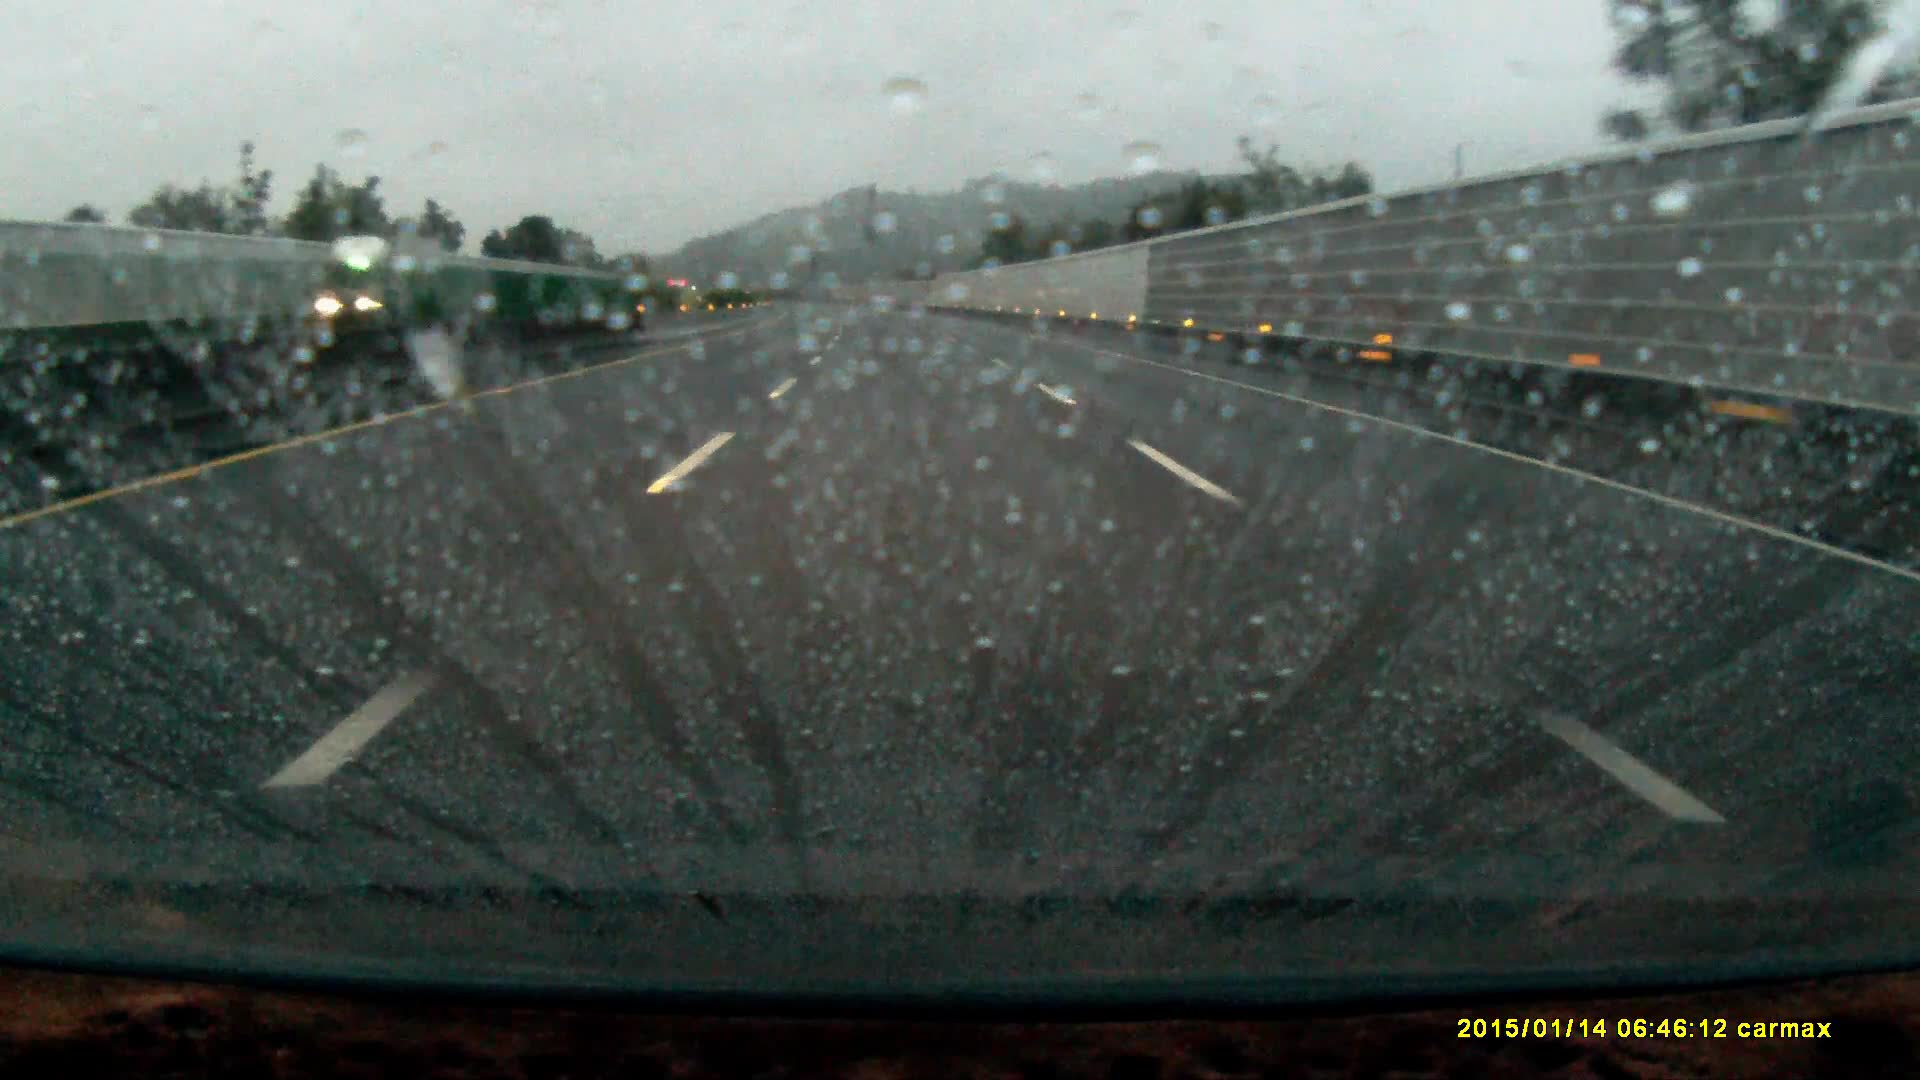vehicle: (326, 229, 438, 326)
